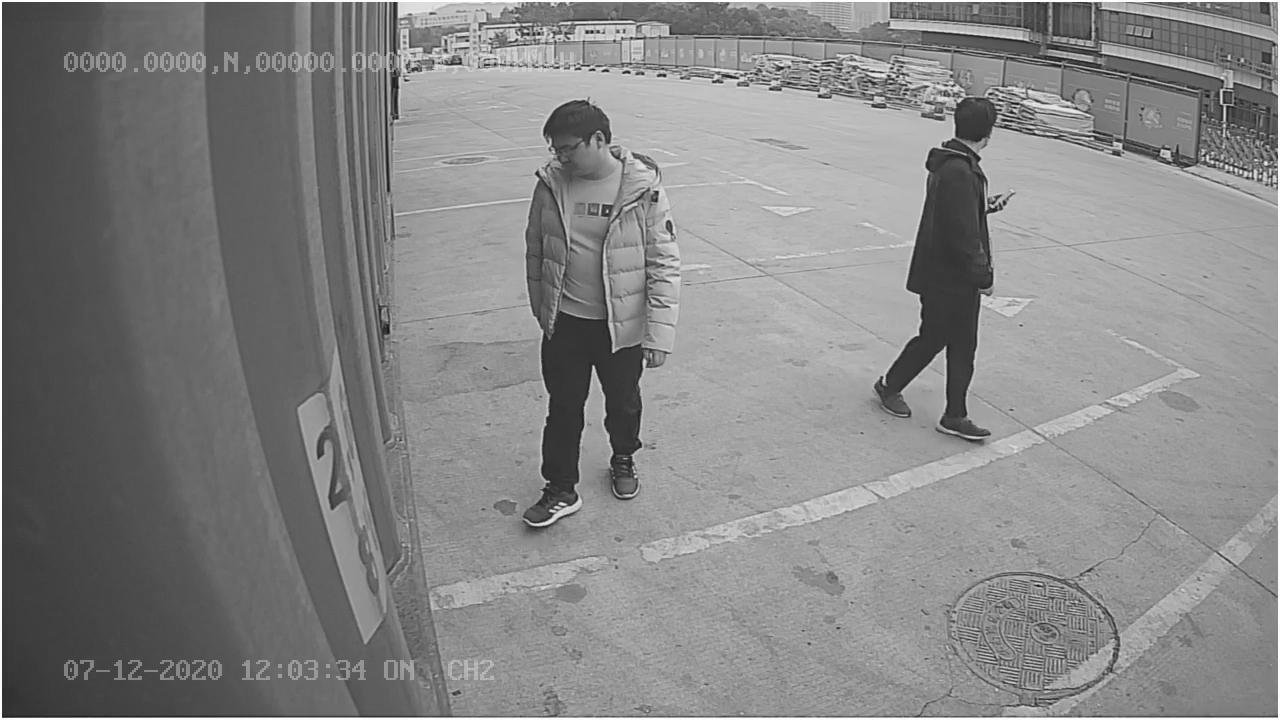person: (492, 95, 680, 528), (872, 89, 1010, 452)
